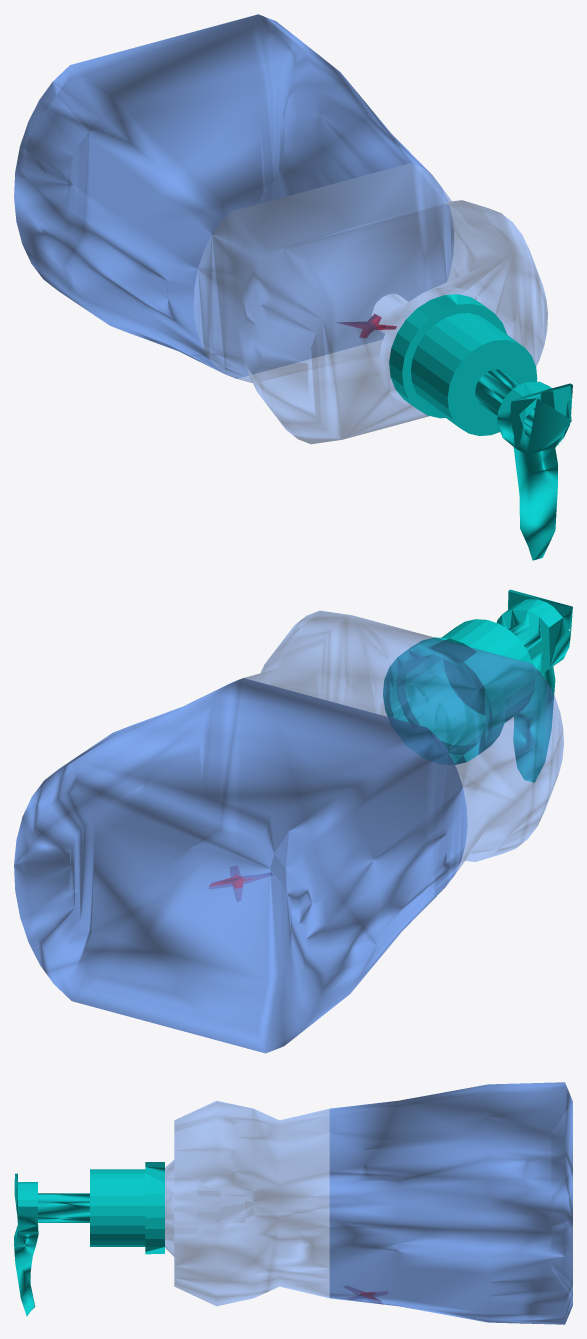
Rendered from model_align.obj.
The picture shows the model from 3 angles, top to bottom: view 1: azimuth 30°, elevation 25°; view 2: azimuth 150°, elevation 25°; view 3: azimuth 270°, elevation 25°; orthographic projection. The views are drawn at different scales.
Bounding box in the file's own units: 0.1089 × 0.0894 × 0.23.
